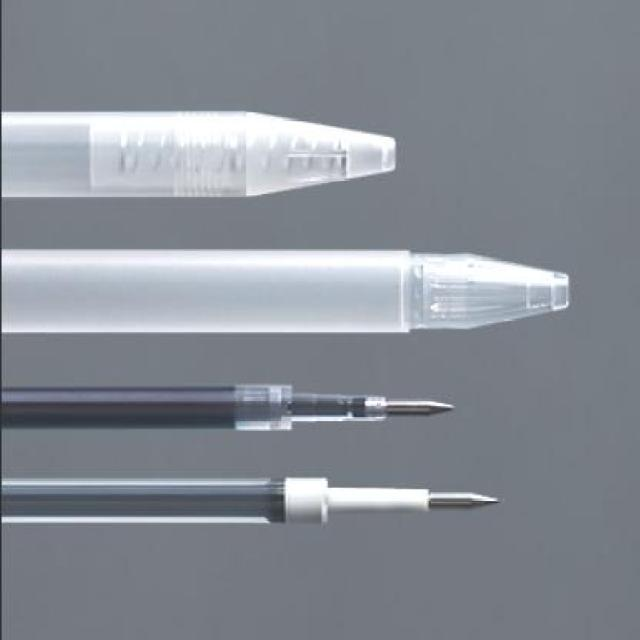pen: (5, 250, 568, 335), (5, 108, 395, 203), (0, 475, 501, 525), (12, 386, 441, 429)
